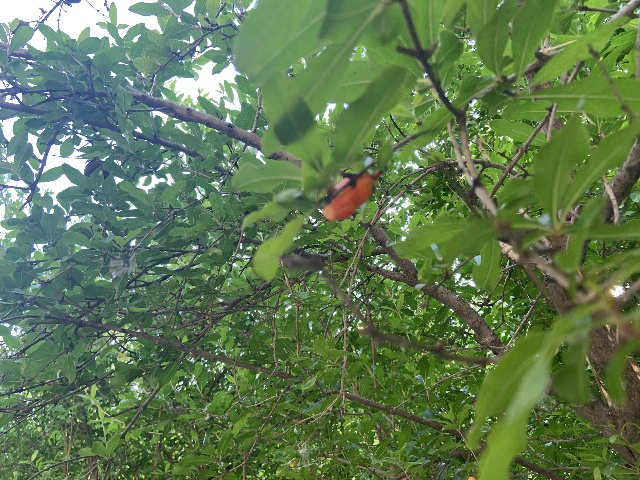bud: (322, 173, 376, 221)
